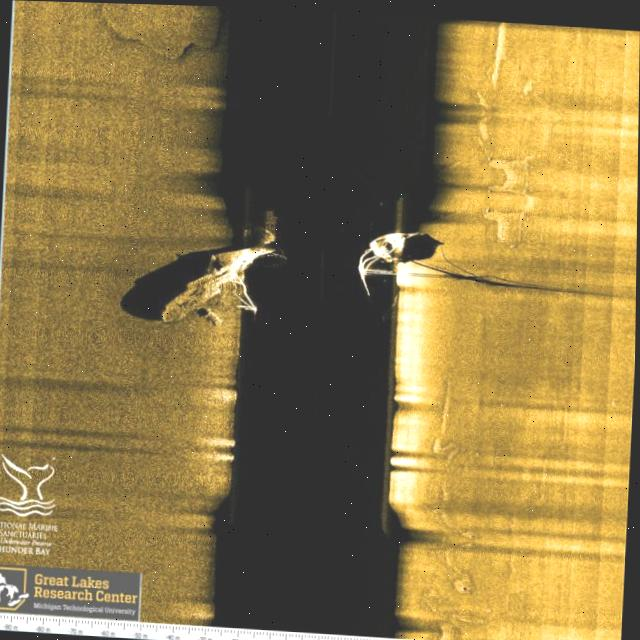shipwreck: (154, 219, 291, 350)
